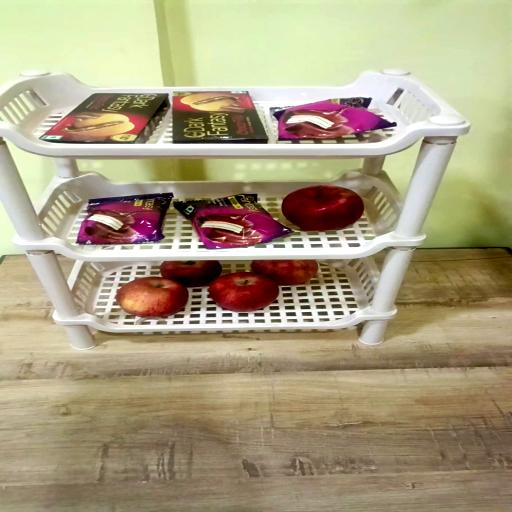Apple: (283, 187, 365, 233), (114, 278, 186, 318), (209, 272, 278, 313), (252, 260, 320, 286), (160, 262, 222, 288)
Choco Fills: (39, 92, 169, 143), (174, 90, 269, 143)
Choco Pie: (176, 196, 292, 250), (272, 96, 396, 140), (76, 194, 172, 246)
